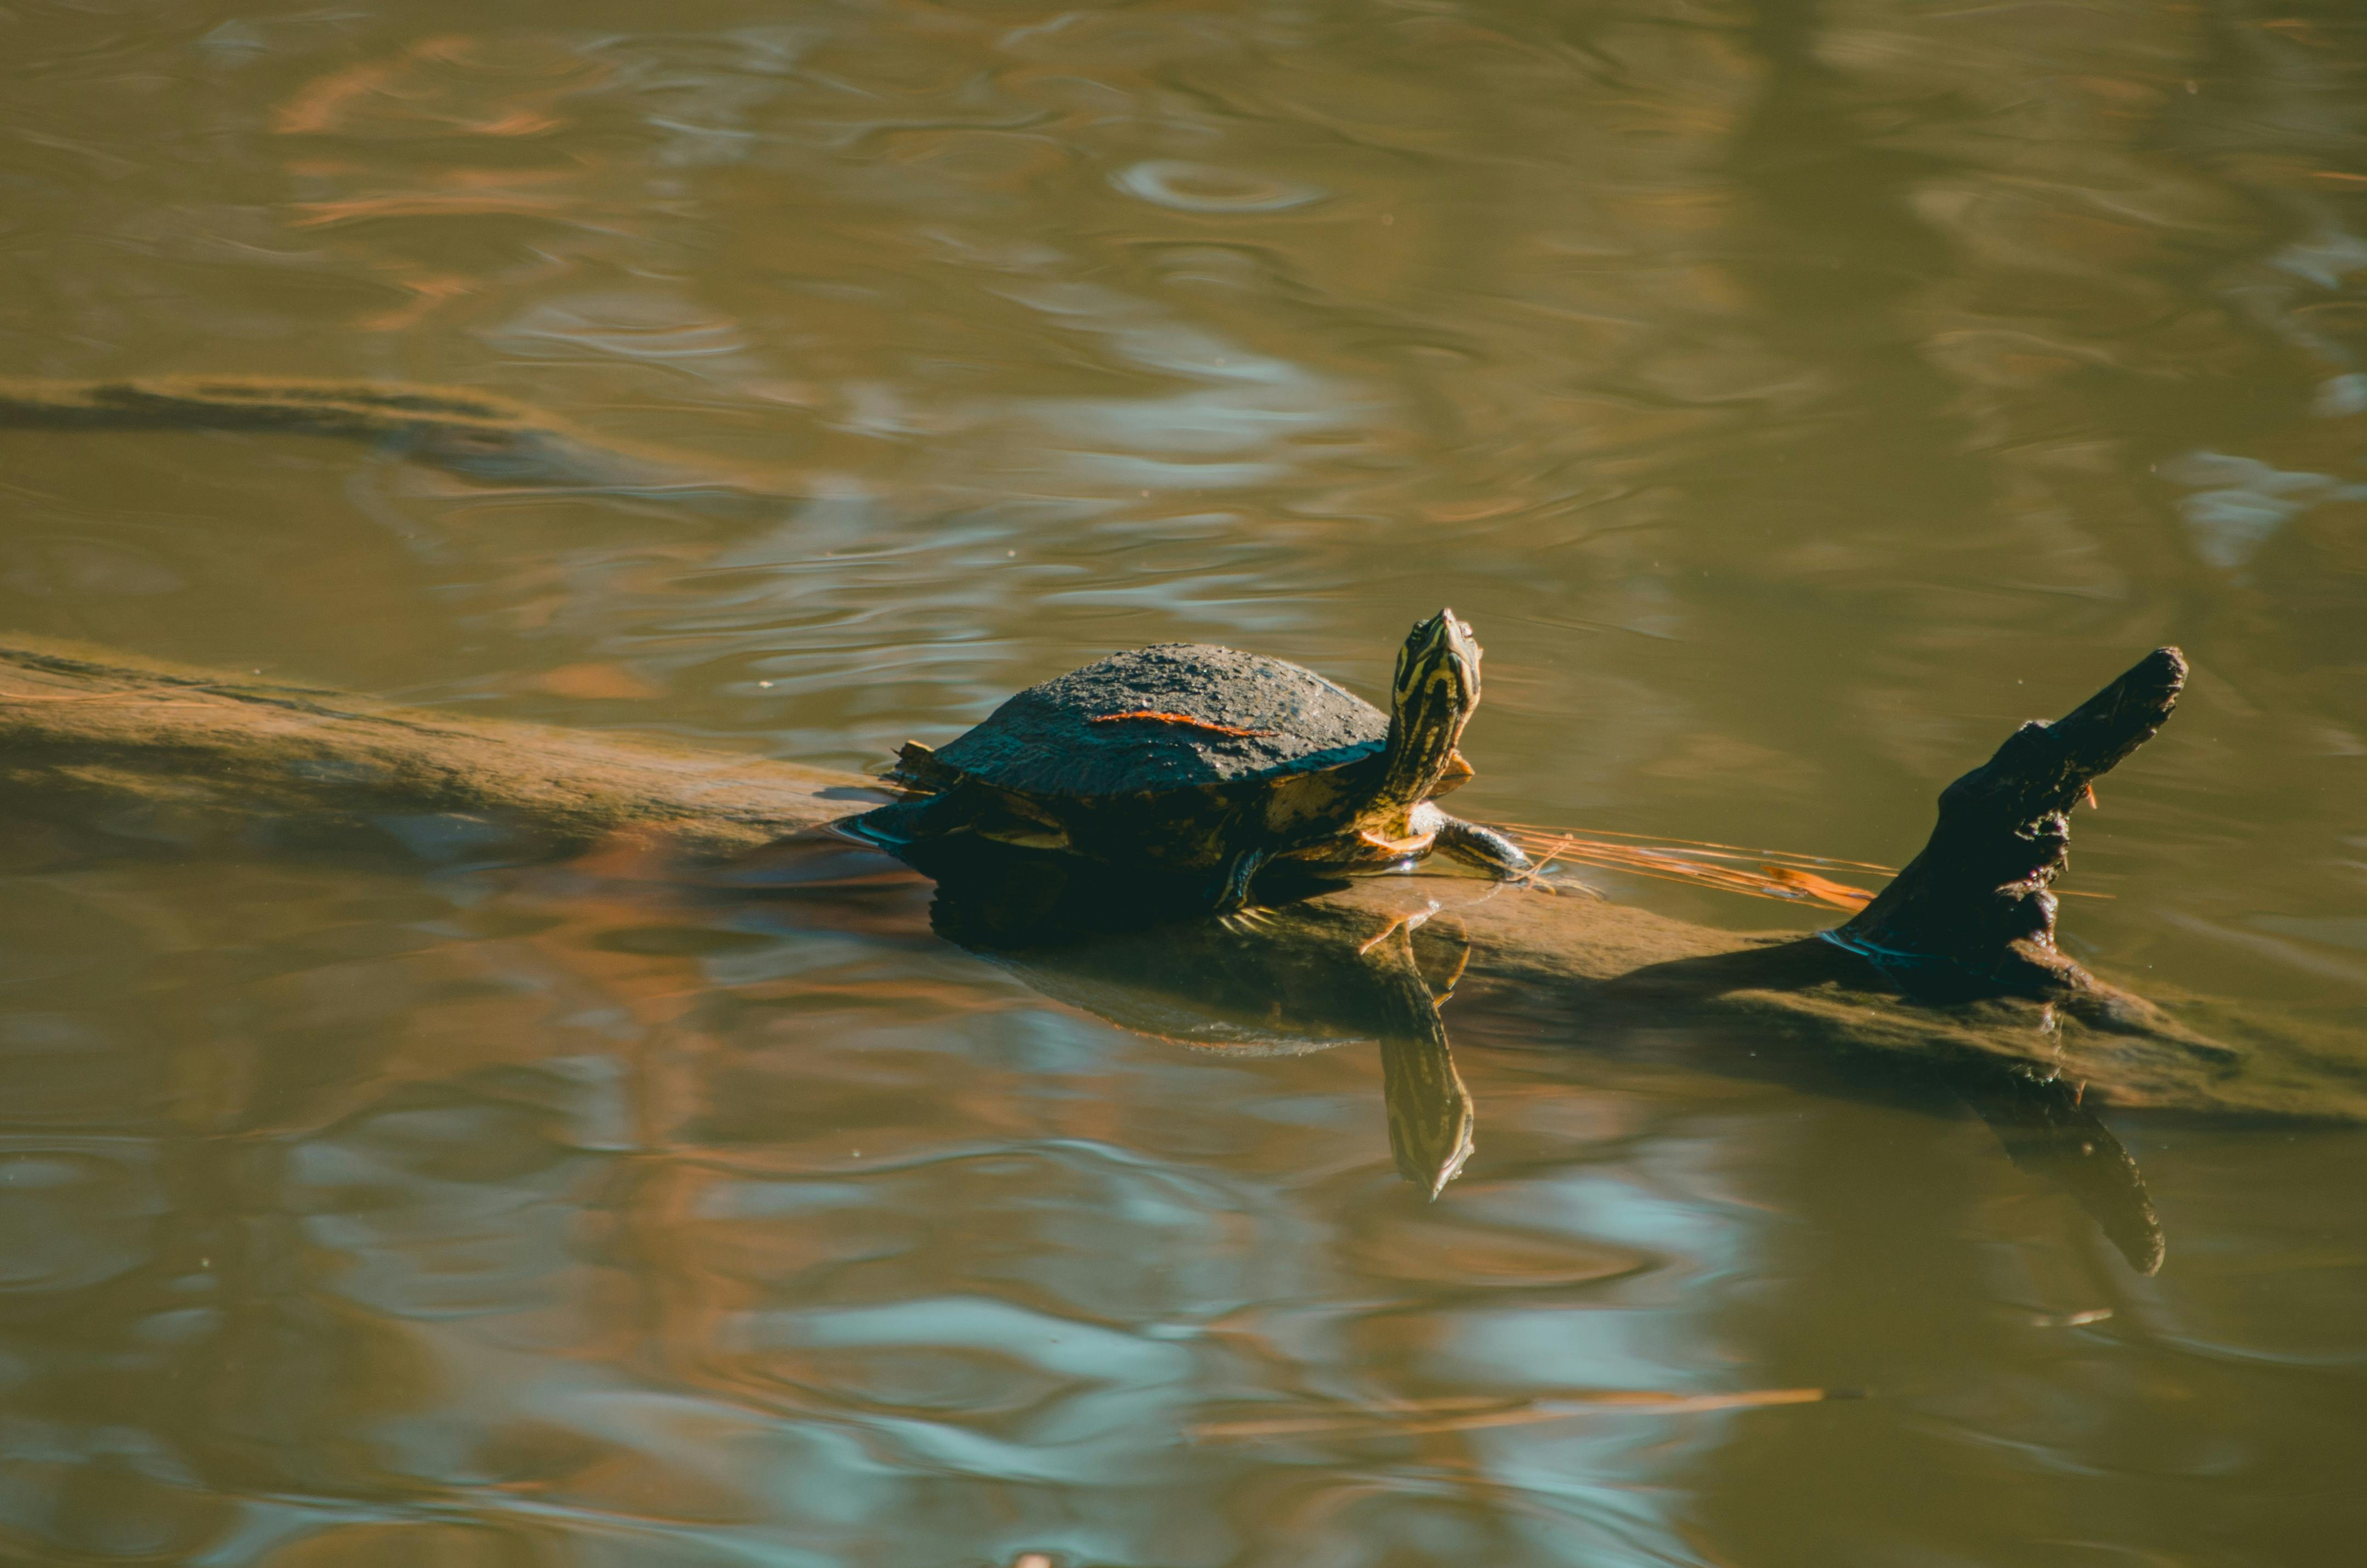turtle: (885, 600, 1604, 942)
